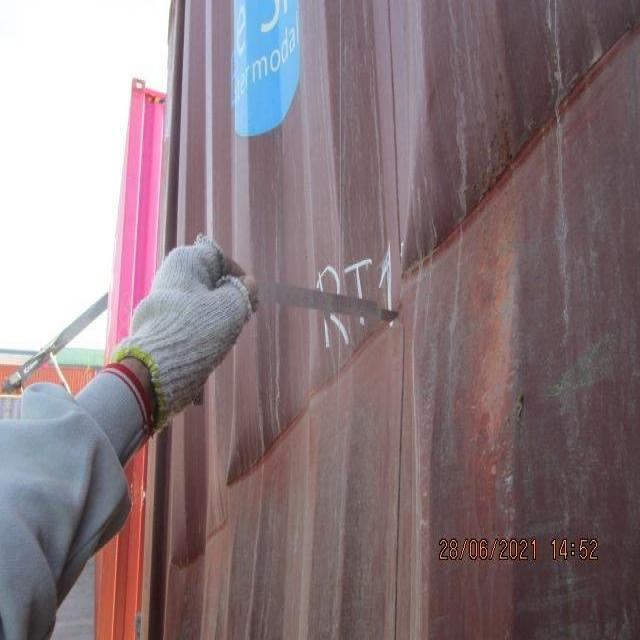Dent: (171, 13, 629, 596)
